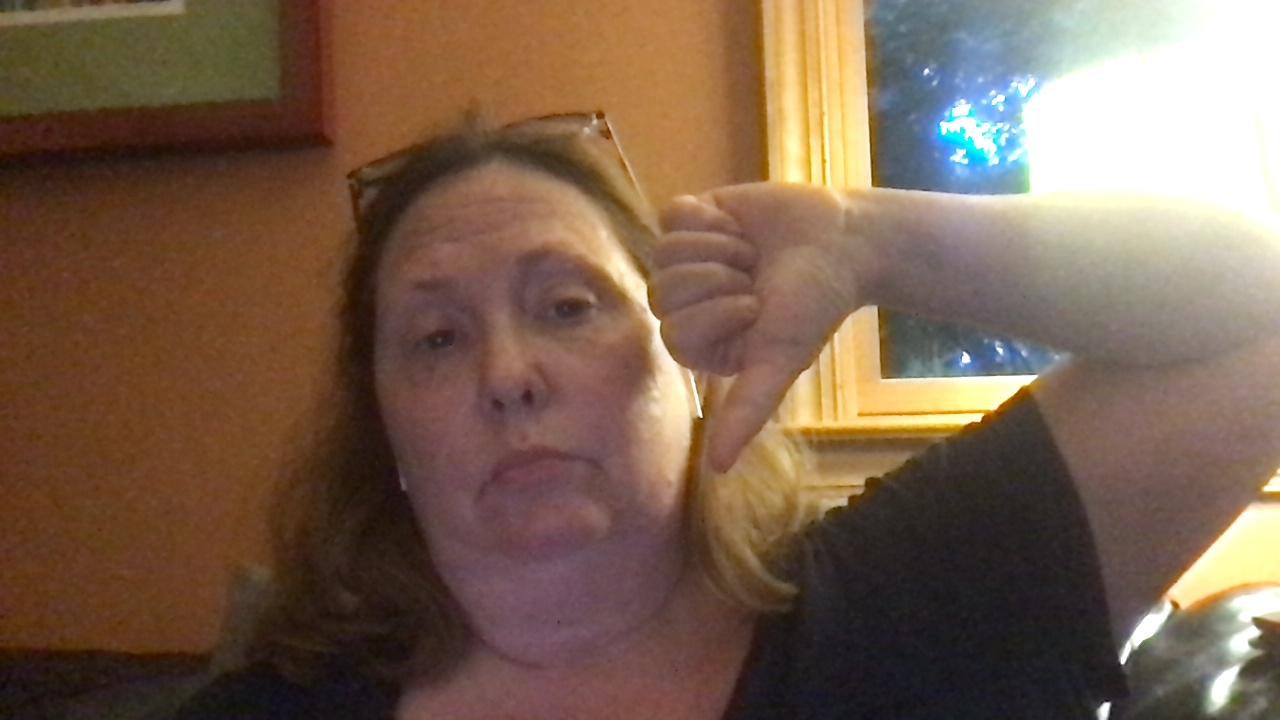thumbsdown: (649, 180, 860, 477)
